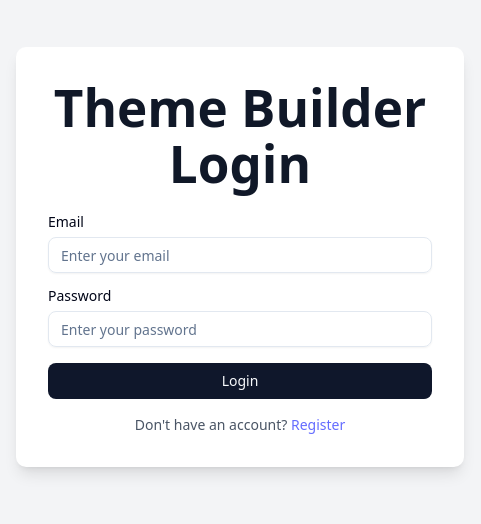
it: LoginForm › Error Scenarios › displays error for invalid credentials
Type "wrong@example.com" into the field labelled "Email".
click(240, 255); type("wrong@example.com")  # box [48, 237, 432, 273]
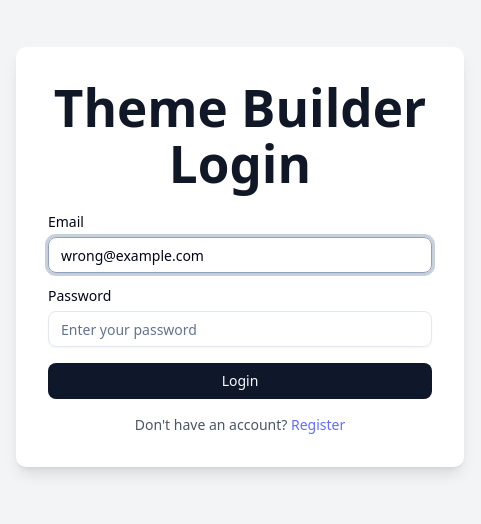
Type "wrongpassword" into the password field labelled "Password".
click(240, 329); type("wrongpassword")  # box [48, 311, 432, 347]
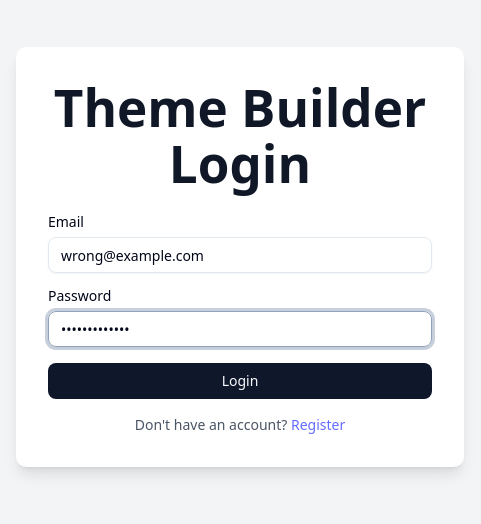
Click the button "Login".
click(240, 381)  # box [48, 363, 432, 399]
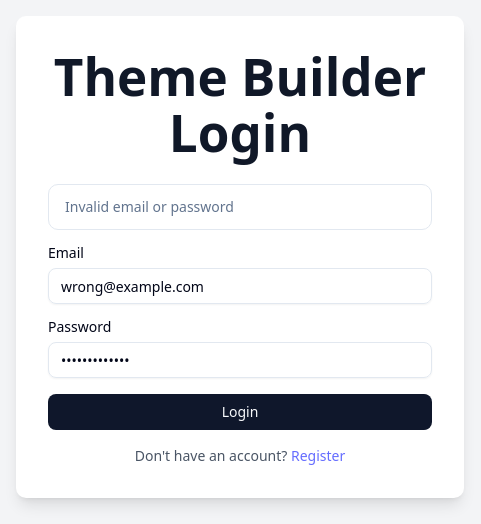
Result: the text "Invalid email or password" is shown at [65, 197, 234, 216]
